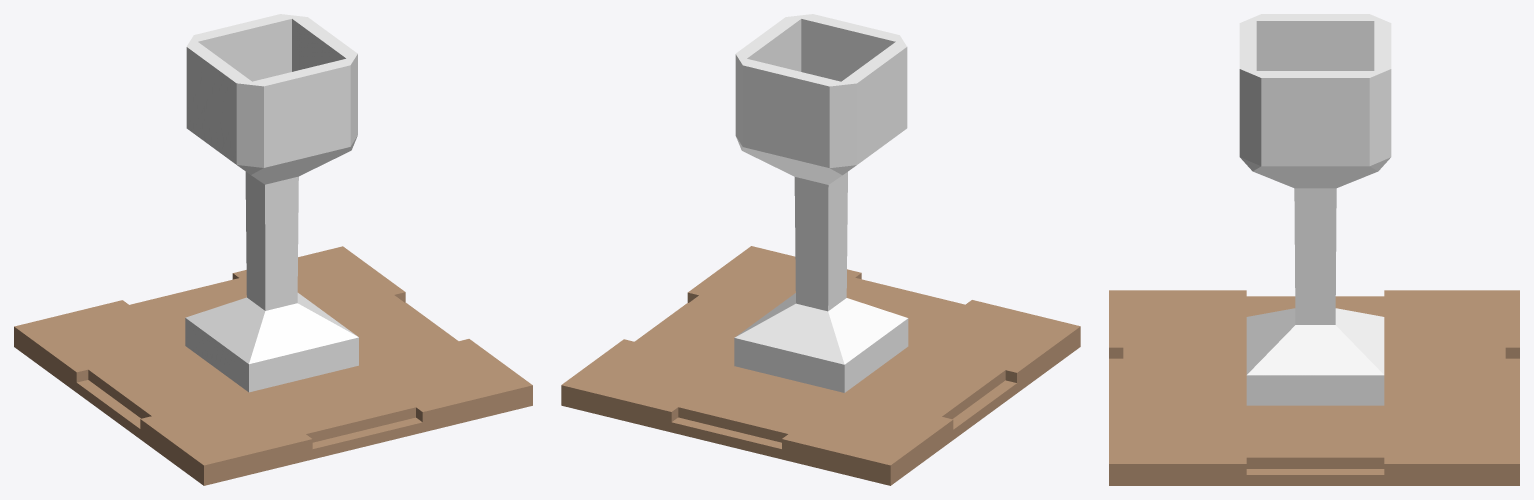
File: Shrine03.fbx
3 renders of one model, left to right at view 1: azimuth 30°, elevation 25°; view 2: azimuth 150°, elevation 25°; view 3: azimuth 270°, elevation 25°, orthographic. The views are drawn at different scales.
Parts seen in each view (by area): view 1: Shrine03; view 2: Shrine03; view 3: Shrine03.
Part boxes in pixels (x1,y1,x2,y2): Shrine03: (14, 14, 532, 485); Shrine03: (561, 14, 1080, 485); Shrine03: (1109, 14, 1519, 485).
Size of the model in its own units: 0.7935 by 0.7516 by 0.7935.
